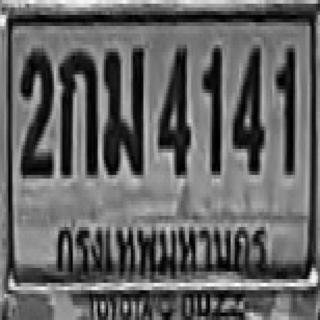A01: (58, 51, 99, 180)
A33: (102, 48, 144, 176)
N01: (202, 49, 221, 175), (277, 49, 295, 175)
N02: (20, 47, 54, 178)
N04: (158, 48, 191, 178), (232, 46, 263, 176)
P04: (48, 212, 268, 283)
